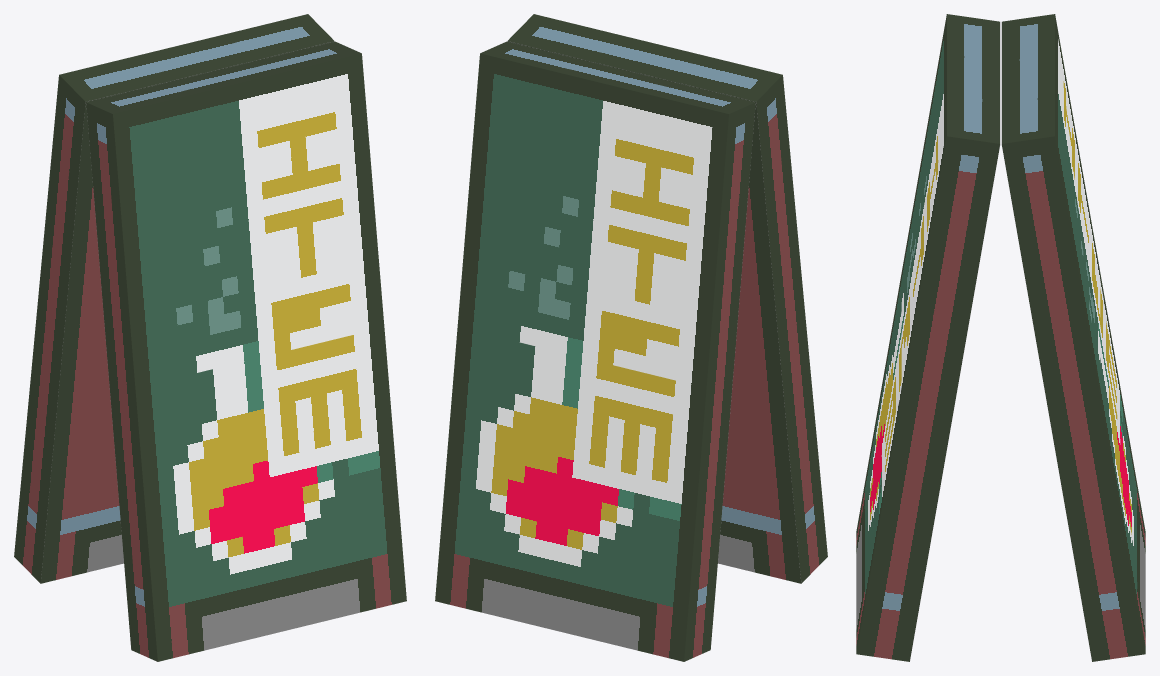
Rendered from sign_item.glb.
3 renders of one model, left to right at view 1: azimuth 30°, elevation 25°; view 2: azimuth 150°, elevation 25°; view 3: azimuth 270°, elevation 25°, orthographic.
Visible parts, largest first — view 1: Cube; view 2: Cube; view 3: Cube.
Part boxes in pixels (x1,y1,x2,y2): Cube: [14, 14, 406, 661]; Cube: [435, 14, 827, 661]; Cube: [856, 14, 1145, 661].
Size of the model in its own units: 1 by 2 by 1.
1 material, 1 textured.
